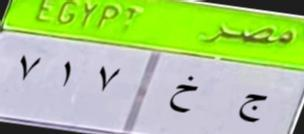1: (57, 59, 74, 94)
7: (15, 52, 44, 85), (96, 62, 121, 97)
jeem: (234, 84, 268, 128)
khaa: (166, 70, 199, 120)
